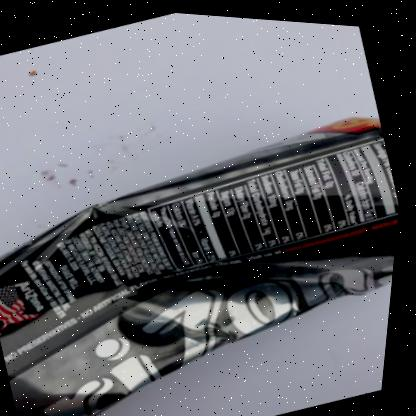Metal: (0, 111, 403, 416)
